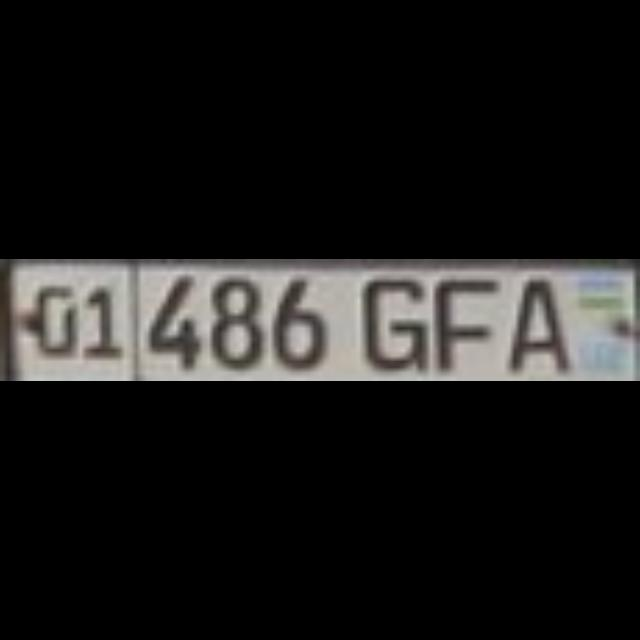0: (28, 276, 72, 348)
1: (77, 276, 116, 348)
4: (145, 270, 195, 360)
6: (267, 270, 323, 364)
8: (206, 270, 256, 360)
A: (501, 270, 562, 364)
F: (428, 270, 489, 364)
G: (356, 270, 424, 364)
